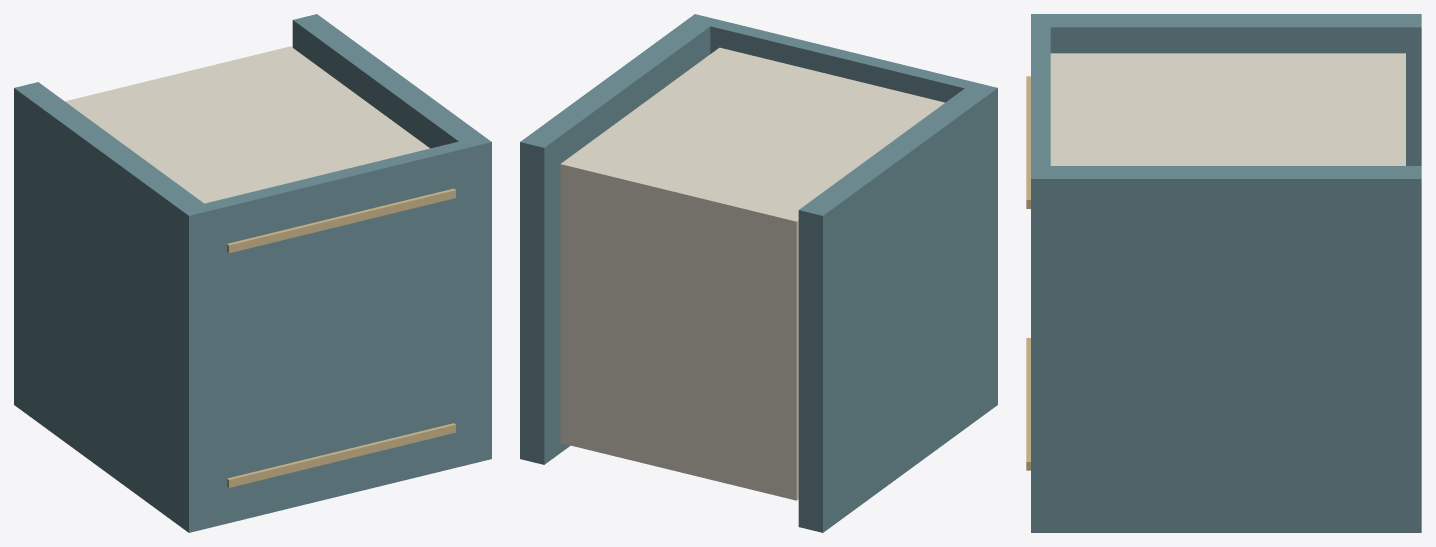
Rendered from island-book-0.glb.
3 views of the same model, side by side, from view 1: azimuth 30°, elevation 25°; view 2: azimuth 150°, elevation 25°; view 3: azimuth 270°, elevation 25° (orthographic). The views are drawn at different scales.
Parts seen in each view (by area): view 1: IslandBook0; view 2: IslandBook0; view 3: IslandBook0.
Part boxes in pixels (<box>): IslandBook0: <box>14,14,491,532</box>; IslandBook0: <box>520,14,997,532</box>; IslandBook0: <box>1026,14,1421,532</box>.
Bounding box in the file's own units: 1 × 1 × 1.01.
